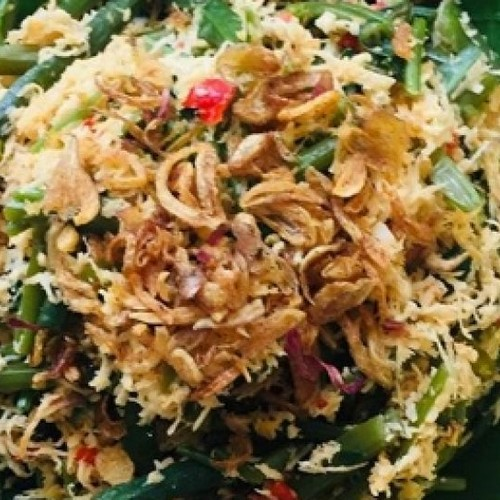jukut urap: (18, 14, 469, 461)
